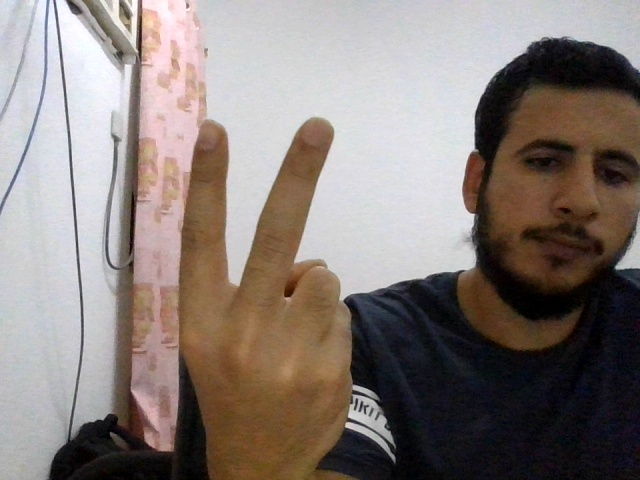Two: (178, 116, 354, 460)
